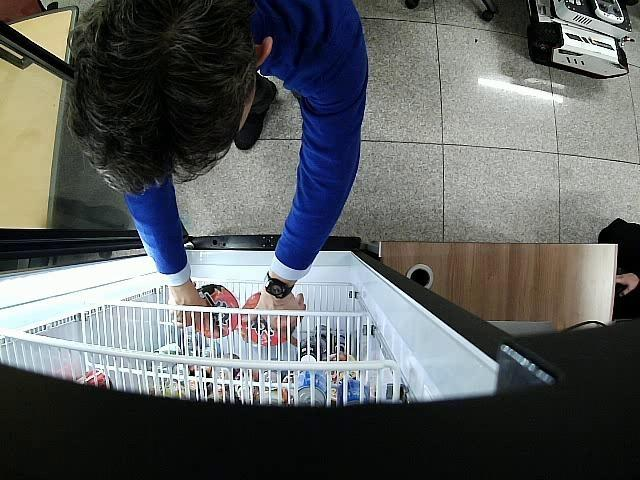01_ShinRamen_L: (194, 284, 240, 339), (240, 292, 286, 346)
